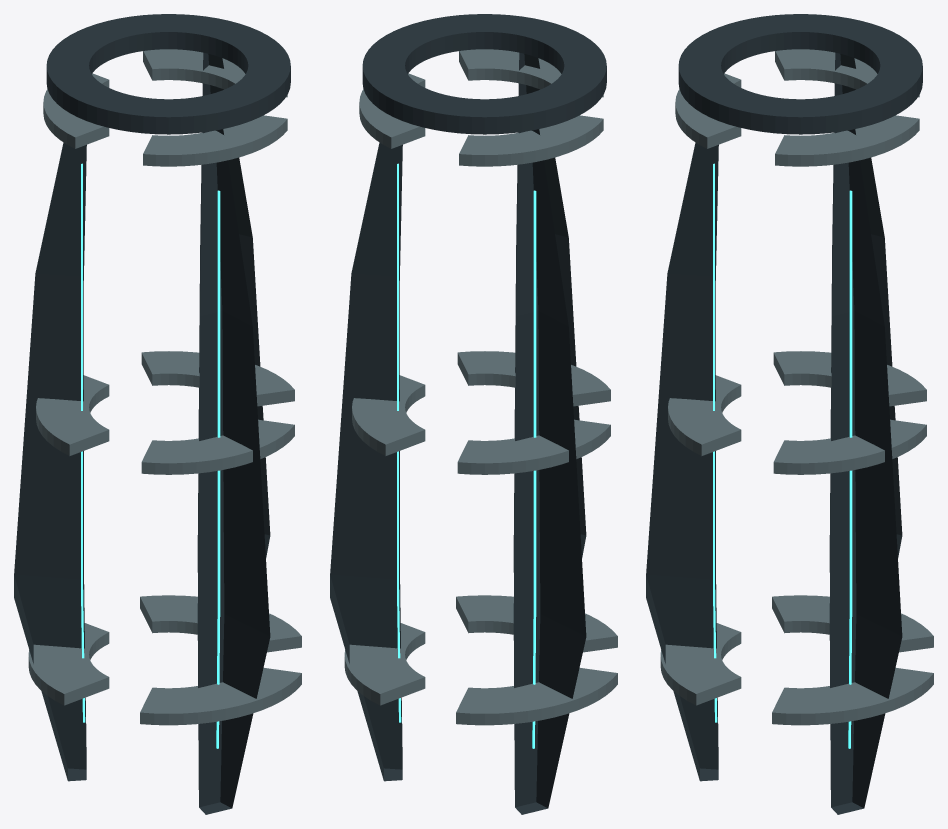
File: Exhaust_Cavern_Segment.glb
3 renders of one model, left to right at view 1: azimuth 30°, elevation 25°; view 2: azimuth 150°, elevation 25°; view 3: azimuth 270°, elevation 25°, orthographic.
Visible parts, largest first — view 1: Exhaust | split monolith 3, Exhaust | split monolith 2, Exhaust | roof interface / 150m opening, Exhaust | aligned floating collar 0-2, Exhaust | aligned floating collar 1-2, Exhaust | aligned floating collar 2-2, Exhaust | aligned floating collar 0-1, Exhaust | split monolith 1, Exhaust | aligned floating collar 1-1, Exhaust | aligned floating collar 1-0, Exhaust | aligned floating collar 0-0, Exhaust | aligned floating collar 2-0 (+3 smaller); view 2: Exhaust | split monolith 2, Exhaust | split monolith 1, Exhaust | roof interface / 150m opening, Exhaust | aligned floating collar 0-1, Exhaust | aligned floating collar 1-1, Exhaust | aligned floating collar 2-1, Exhaust | aligned floating collar 0-0, Exhaust | split monolith 3, Exhaust | aligned floating collar 1-0, Exhaust | aligned floating collar 1-2, Exhaust | aligned floating collar 0-2, Exhaust | aligned floating collar 2-2 (+3 smaller); view 3: Exhaust | split monolith 1, Exhaust | split monolith 3, Exhaust | roof interface / 150m opening, Exhaust | aligned floating collar 0-0, Exhaust | aligned floating collar 1-0, Exhaust | aligned floating collar 2-0, Exhaust | aligned floating collar 0-2, Exhaust | split monolith 2, Exhaust | aligned floating collar 1-2, Exhaust | aligned floating collar 1-1, Exhaust | aligned floating collar 0-1, Exhaust | aligned floating collar 2-1 (+3 smaller).
Part boxes in pixels (<box>): Exhaust | split monolith 3: <box>197,129,270,814</box>; Exhaust | split monolith 2: <box>14,142,86,781</box>; Exhaust | roof interface / 150m opening: <box>46,14,290,134</box>; Exhaust | aligned floating collar 0-2: <box>140,668,301,725</box>; Exhaust | aligned floating collar 1-2: <box>141,419,294,474</box>; Exhaust | aligned floating collar 2-2: <box>143,115,287,166</box>; Exhaust | aligned floating collar 0-1: <box>28,623,109,705</box>; Exhaust | split monolith 1: <box>197,52,270,572</box>; Exhaust | aligned floating collar 1-1: <box>36,375,109,455</box>; Exhaust | aligned floating collar 1-0: <box>141,351,294,406</box>; Exhaust | aligned floating collar 0-0: <box>140,595,301,652</box>; Exhaust | aligned floating collar 2-0: <box>143,49,287,97</box>; Exhaust | split monolith 2: <box>513,129,586,814</box>; Exhaust | split monolith 1: <box>330,142,402,781</box>; Exhaust | roof interface / 150m opening: <box>362,14,606,134</box>; Exhaust | aligned floating collar 0-1: <box>456,668,617,725</box>; Exhaust | aligned floating collar 1-1: <box>457,419,610,474</box>; Exhaust | aligned floating collar 2-1: <box>459,115,603,166</box>; Exhaust | aligned floating collar 0-0: <box>344,623,425,705</box>; Exhaust | split monolith 3: <box>513,52,586,572</box>; Exhaust | aligned floating collar 1-0: <box>352,375,425,455</box>; Exhaust | aligned floating collar 1-2: <box>457,351,610,406</box>; Exhaust | aligned floating collar 0-2: <box>456,595,617,652</box>; Exhaust | aligned floating collar 2-2: <box>459,49,603,97</box>; Exhaust | split monolith 1: <box>829,129,902,814</box>; Exhaust | split monolith 3: <box>646,142,718,781</box>; Exhaust | roof interface / 150m opening: <box>678,14,922,134</box>; Exhaust | aligned floating collar 0-0: <box>772,668,933,725</box>; Exhaust | aligned floating collar 1-0: <box>773,419,926,474</box>; Exhaust | aligned floating collar 2-0: <box>775,115,919,166</box>; Exhaust | aligned floating collar 0-2: <box>660,623,741,705</box>; Exhaust | split monolith 2: <box>829,52,902,572</box>; Exhaust | aligned floating collar 1-2: <box>668,375,741,455</box>; Exhaust | aligned floating collar 1-1: <box>773,351,926,406</box>; Exhaust | aligned floating collar 0-1: <box>772,595,933,652</box>; Exhaust | aligned floating collar 2-1: <box>775,49,919,97</box>.
Size of the model in its own units: 279 by 737 by 271.
